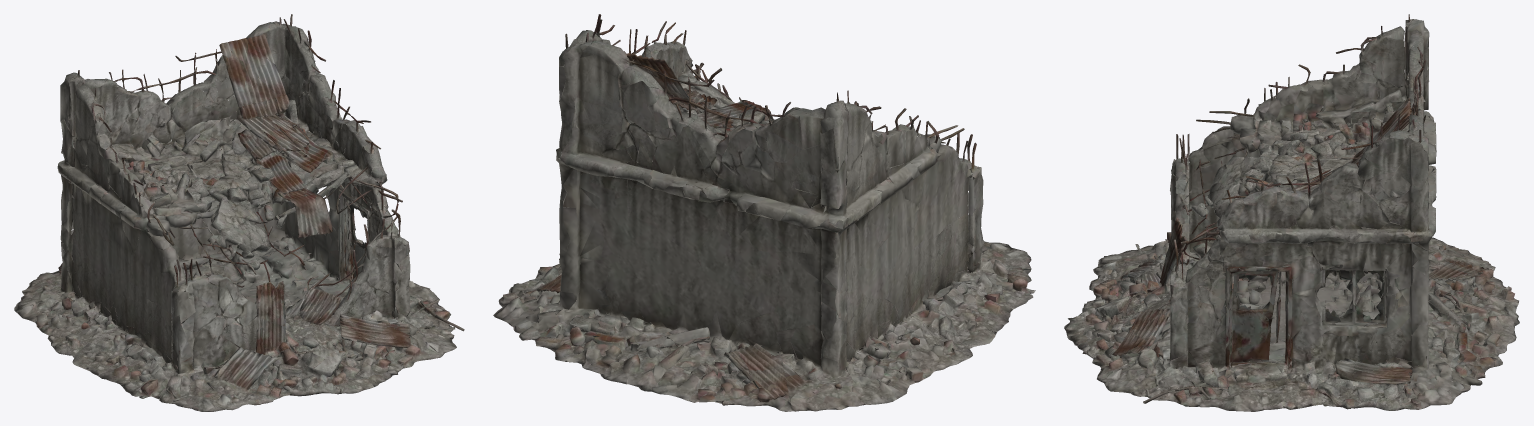
Rendered from collapsed-building-meshy-v1.glb.
3 views of the same model, side by side, from view 1: azimuth 30°, elevation 25°; view 2: azimuth 150°, elevation 25°; view 3: azimuth 270°, elevation 25° (orthographic). The views are drawn at different scales.
Parts seen in each view (by area): view 1: Mesh_0; view 2: Mesh_0; view 3: Mesh_0.
Boxes of the visible parts, bbox=[...] form: Mesh_0: bbox=[14, 14, 464, 411]; Mesh_0: bbox=[493, 14, 1035, 411]; Mesh_0: bbox=[1064, 14, 1519, 411].
Size of the model in its own units: 1.78 by 1.19 by 1.9.
1 material, 1 textured.
